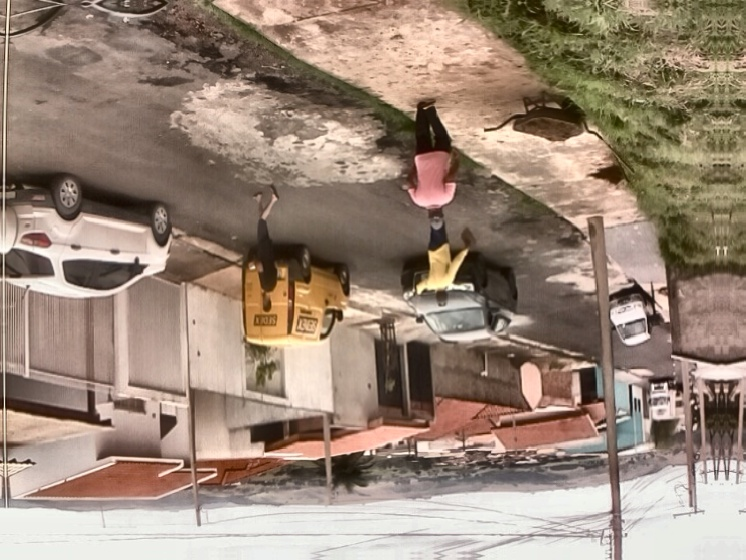person: (403, 97, 462, 233), (410, 222, 471, 307), (250, 185, 279, 312)
